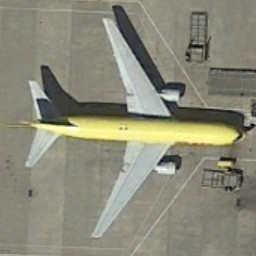Airplane: (19, 12, 249, 246)
